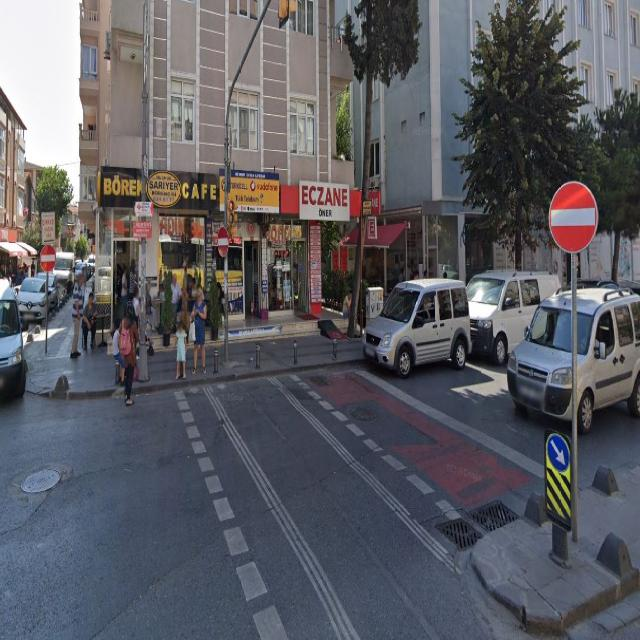girisyok: (548, 180, 598, 253), (40, 245, 56, 274), (217, 227, 228, 258)
